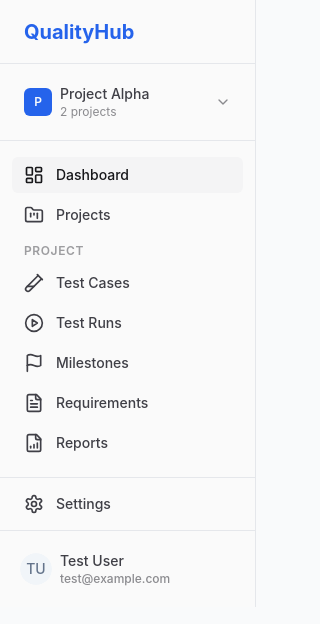
Scenario: Sidebar › User Avatar Section › should show settings link in user dropdown
The image size is (320, 624).
Click the button "TU Test User test@example.com". click: (128, 569)
box: x1=12 y1=543 x2=243 y2=595
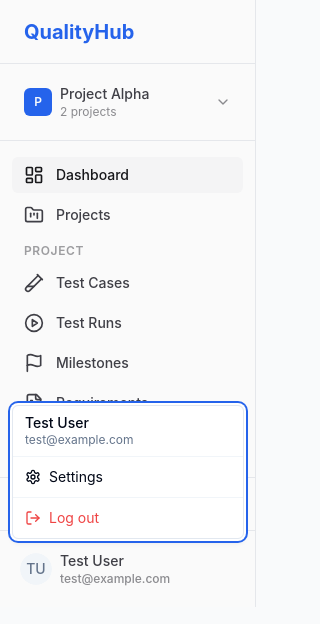
Check: the menu item "Settings" is shown, box x1=25 y1=468 x2=103 y2=485
